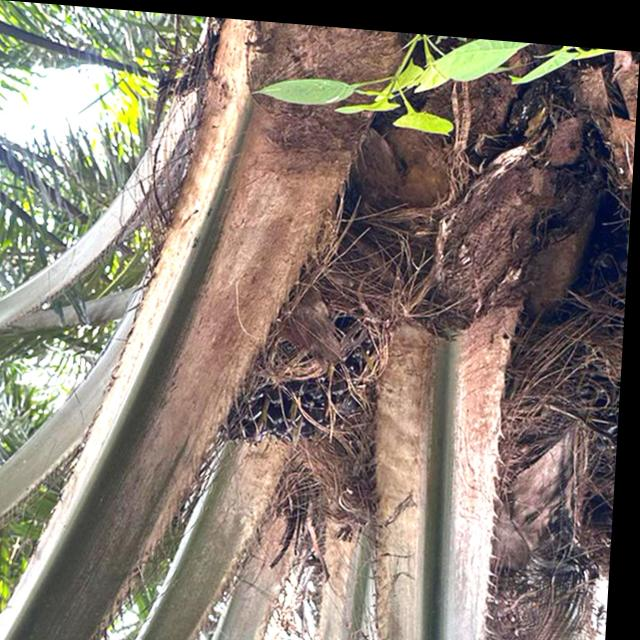ripe: (219, 237, 383, 457)
